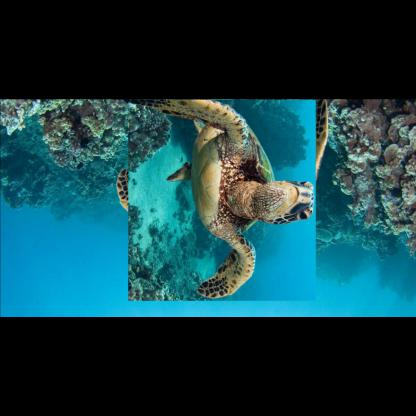turtle: (120, 98, 322, 292)
